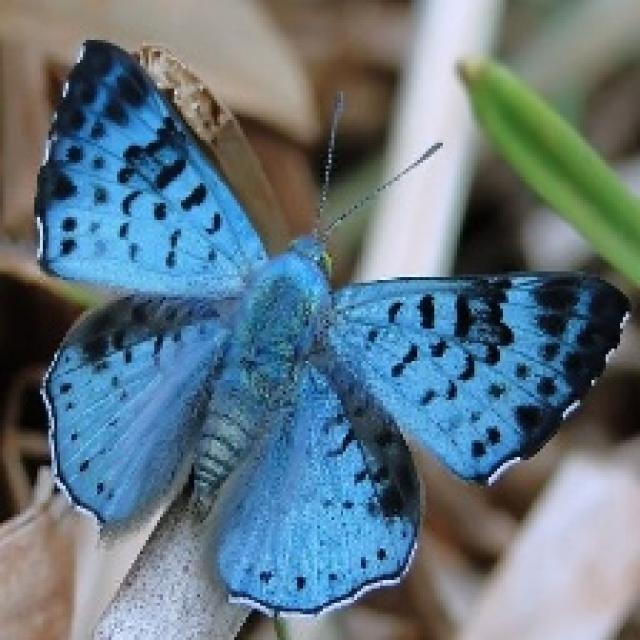butterfly: (29, 34, 632, 620)
